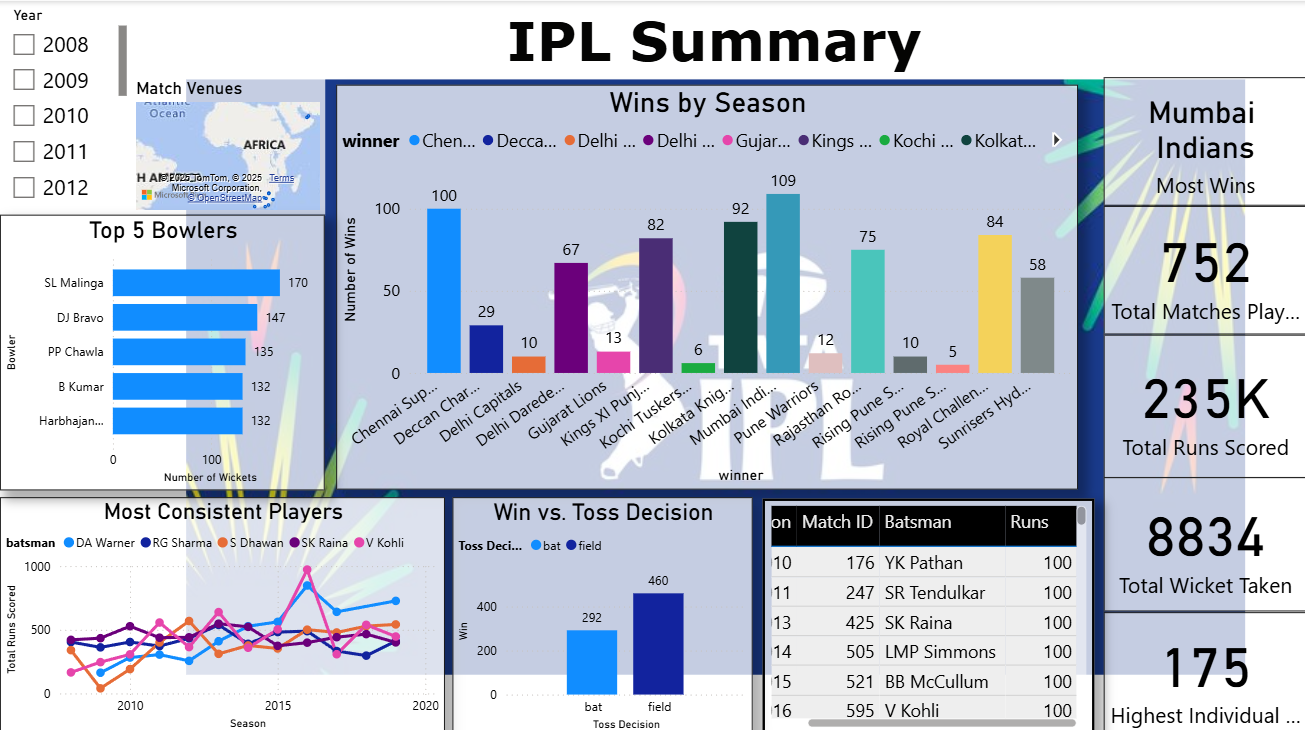

The dashboard page shown, as its layout file describes it:
{"tool":"powerbi","page":{"name":"Page 1","canvas":[1280,720],"ordinal":0},"visuals":[{"type":"image","box":[177.3,15.4,1046.1,704.3],"z":0},{"type":"card","fields":{"Values":["IPL Deliveries.Total Matches Played"]},"box":[1079.5,200.5,200.5,125.9],"z":1000},{"type":"card","fields":{"Values":["IPL Deliveries.Total Runs Scored"]},"box":[1079.5,326.4,200.5,140.1],"z":2000},{"type":"card","fields":{"Values":["IPL Deliveries.Total Wicket Taken"]},"box":[1079.9,466.3,200.1,130.9],"z":3000},{"type":"card","fields":{"Values":["Winners Count.Most Wins"]},"box":[1079.9,74.8,200.1,125.4],"z":4000},{"type":"card","fields":{"Values":["Individual Scores.Highest Individual Score"]},"box":[1079.5,597.6,200.5,122.1],"z":5000},{"type":"slicer","fields":{"Values":["IPL Matches.Year"]},"box":[0,0,128.7,200.1],"z":6000},{"type":"textbox","box":[317.8,0,762.1,74.8],"z":7000},{"type":"columnChart","title":"Wins by Season","fields":{"Category":["Winners Count.winner","Winners Count.season"],"Series":["Winners Count.winner"],"Y":["Winners Count.Wins"]},"box":[328.8,82.5,725.8,395.9],"z":8000},{"type":"lineChart","title":"Most Consistent Players","fields":{"Category":["Individual Scores.season"],"Series":["Individual Scores.batsman"],"Y":["Individual Scores.Runs"]},"box":[0,486,435.5,233.1],"z":9000},{"type":"columnChart","title":"Win vs. Toss Decision","fields":{"Category":["IPL Matches.toss_decision","Winners Count.winner"],"Y":["IPL Matches.winner"],"Series":["IPL Matches.toss_decision"]},"box":[443.2,486,293.6,234.2],"z":10000},{"type":"map","fields":{"Category":["IPL Matches.city"]},"box":[128.4,74.6,189.5,134.5],"z":11000},{"type":"clusteredBarChart","title":"Top 5 Bowlers","fields":{"Category":["IPL Deliveries.bowler"],"Y":["IPL Deliveries.dismissal_kind"]},"box":[0,208.9,317.8,269.4],"z":12000},{"type":"tableEx","fields":{"Values":["Individual Scores.season","Individual Scores.match_id","Individual Scores.batsman","Individual Scores.Runs"]},"box":[746.1,486.2,325.2,232.7],"z":13000}]}

Visuals, with their boxes in screenshot pixels (x1, y1, x2, y2), scaled from the page's 1280x720 canvas onto the 1305x730 screenshot:
image: 181, 16, 1247, 729
card - IPL Deliveries.Total Matches Played: 1101, 203, 1304, 331
card - IPL Deliveries.Total Runs Scored: 1101, 331, 1304, 473
card - IPL Deliveries.Total Wicket Taken: 1101, 473, 1304, 605
card - Winners Count.Most Wins: 1101, 76, 1304, 203
card - Individual Scores.Highest Individual Score: 1101, 606, 1304, 729
slicer - IPL Matches.Year: 0, 0, 131, 203
textbox: 324, 0, 1101, 76
"Wins by Season" columnChart: 335, 84, 1075, 485
"Most Consistent Players" lineChart: 0, 493, 444, 729
"Win vs. Toss Decision" columnChart: 452, 493, 751, 729
map - IPL Matches.city: 131, 76, 324, 212
"Top 5 Bowlers" clusteredBarChart: 0, 212, 324, 485
tableEx - Individual Scores.season x Individual Scores.match_id: 761, 493, 1092, 729
